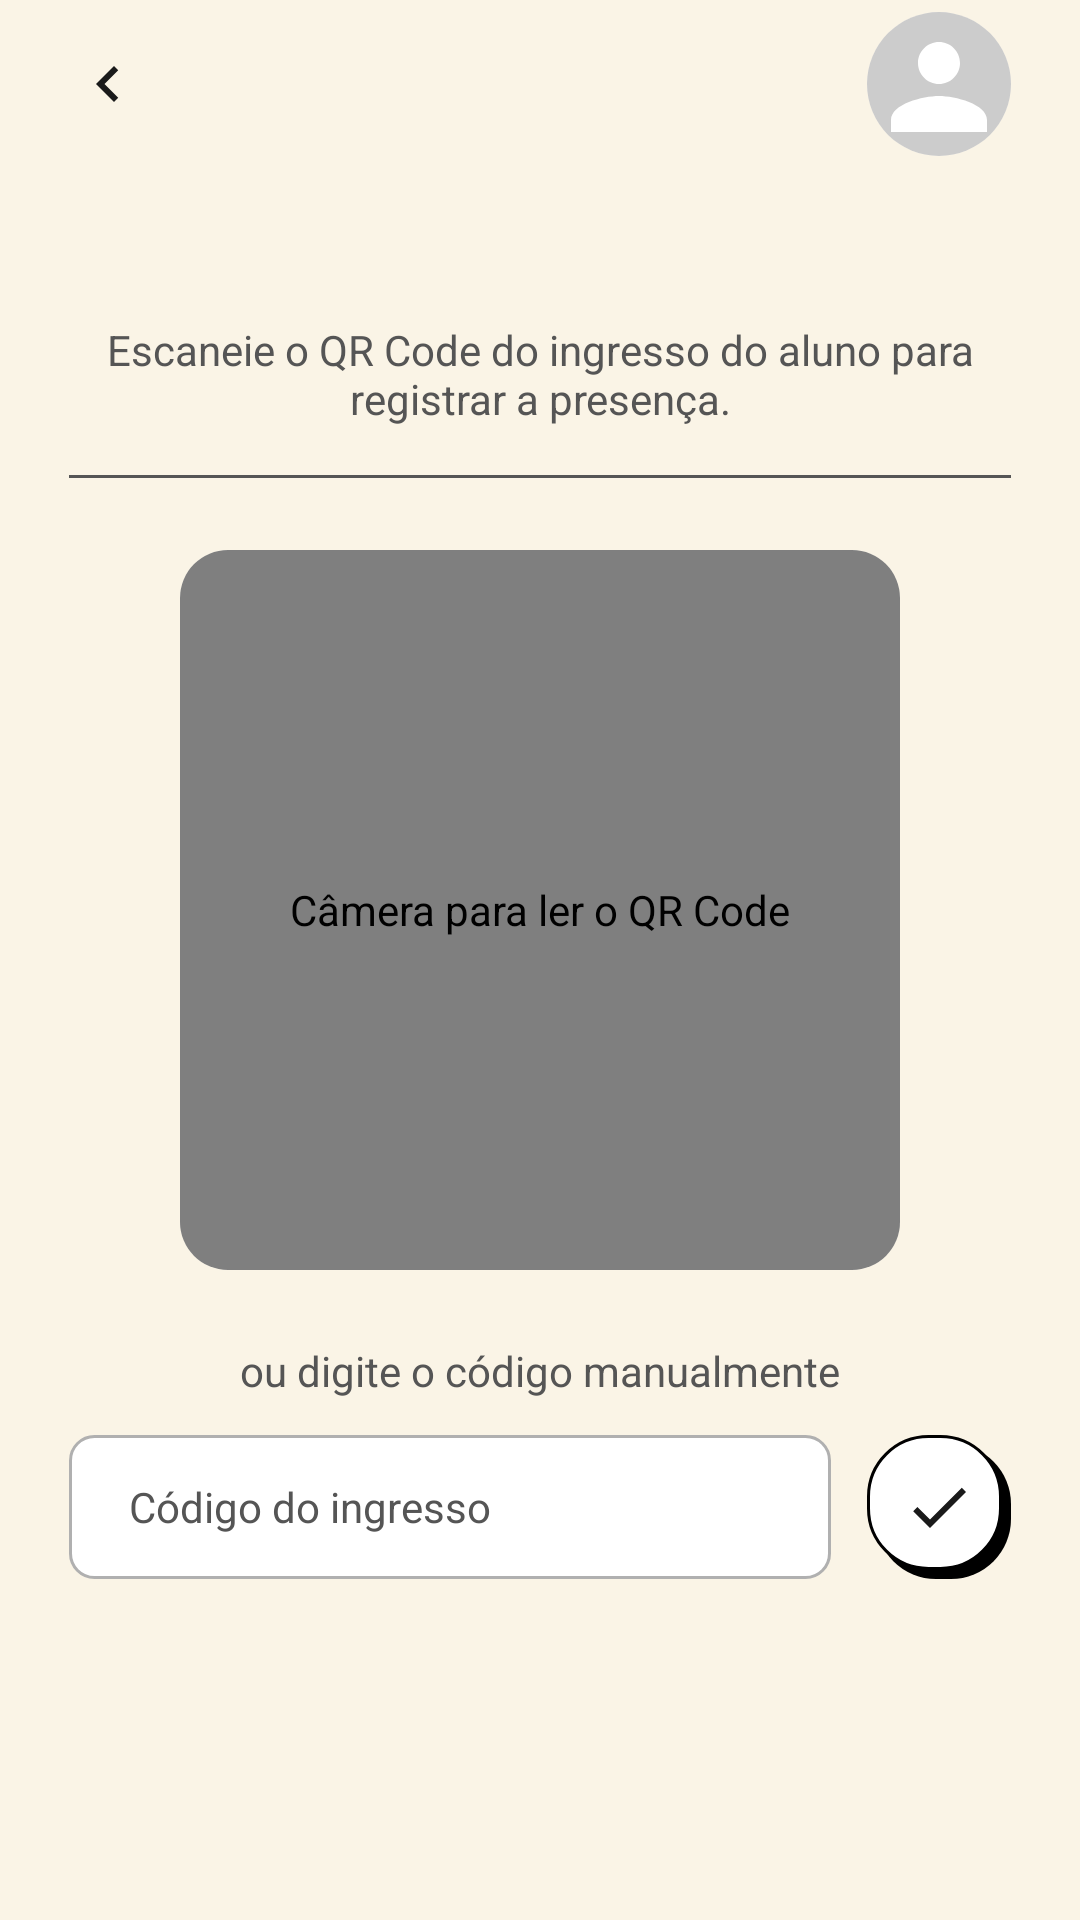

Where icons sit on this 1080px x 1920px app screen, as (x1, y1, x2, y2):
Registrar presença com o código digitado: (867, 1435, 1011, 1579)
Voltar: (96, 66, 118, 102)
